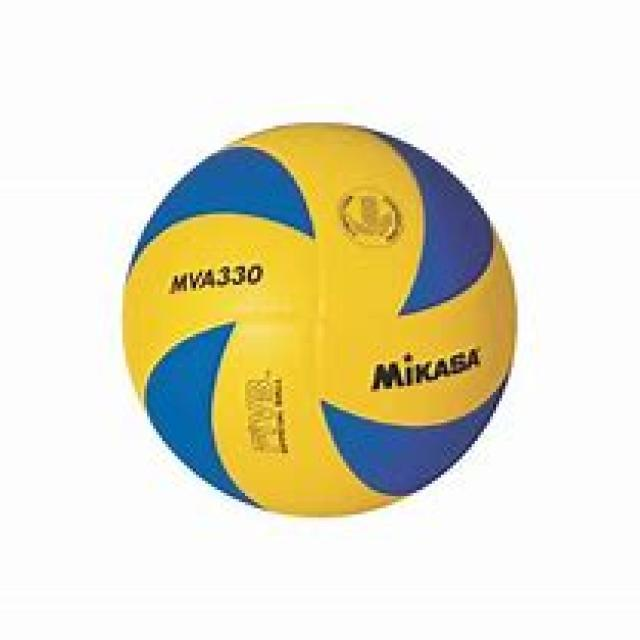volleyball: (122, 123, 517, 518)
